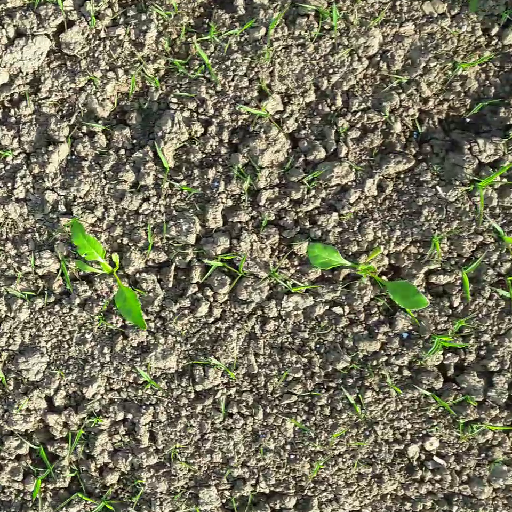sugarbeet: (62, 217, 152, 332), (305, 240, 433, 313)
weed: (1, 1, 511, 512)
